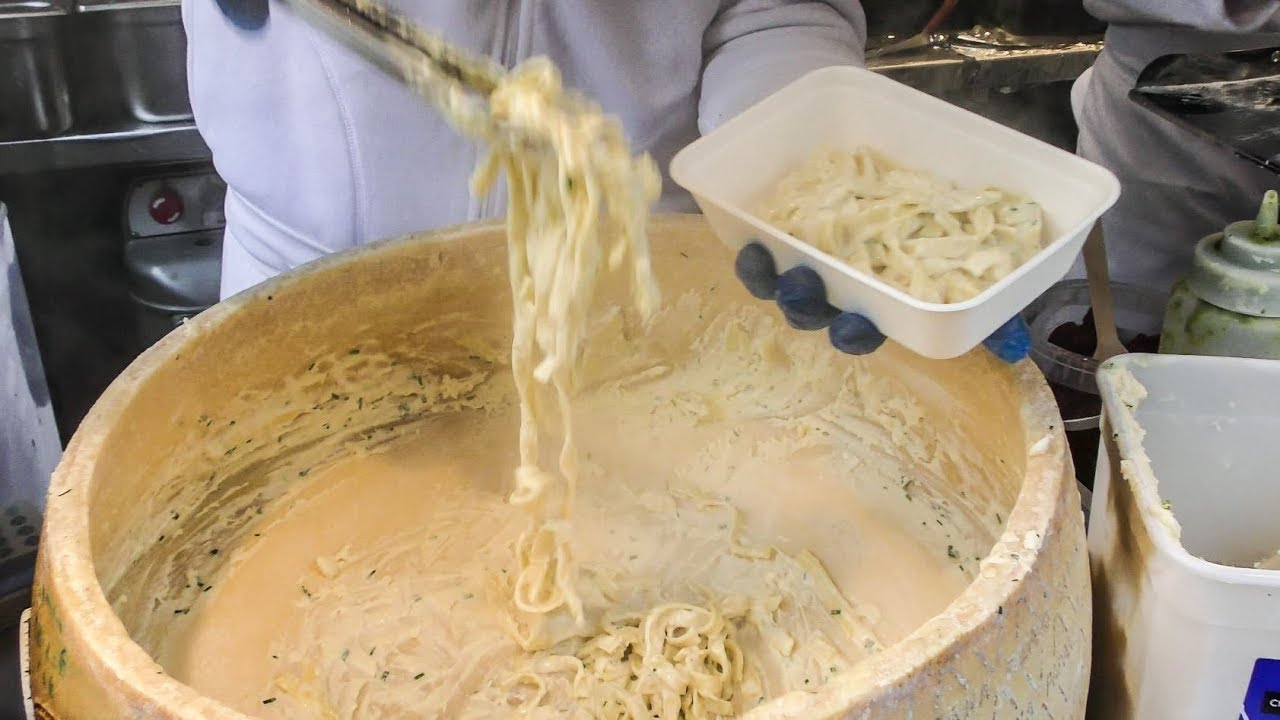cheese: (463, 176, 677, 603)
